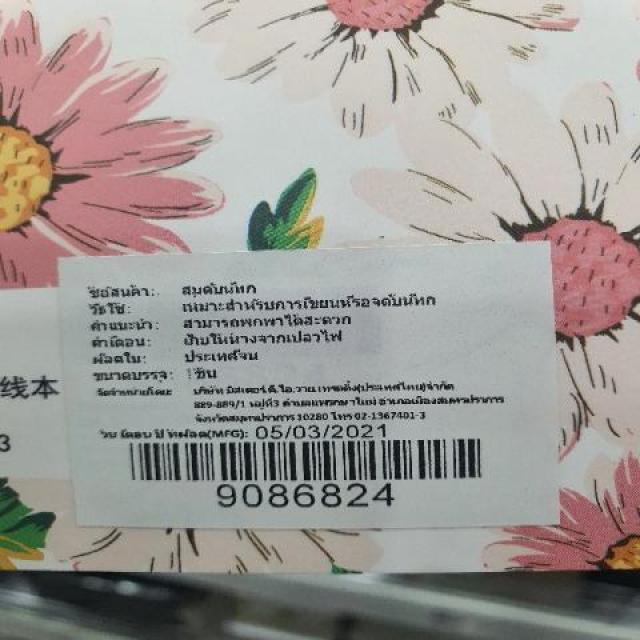Barcode: (117, 437, 500, 506)
